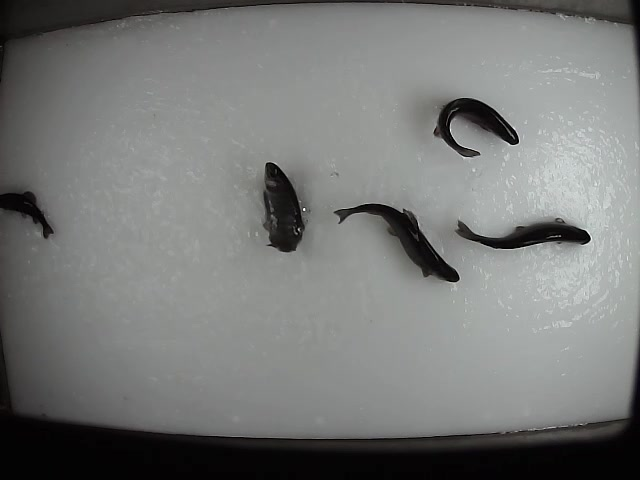Fish: (333, 204, 459, 282), (433, 97, 519, 157), (455, 218, 591, 249), (264, 162, 304, 254)
